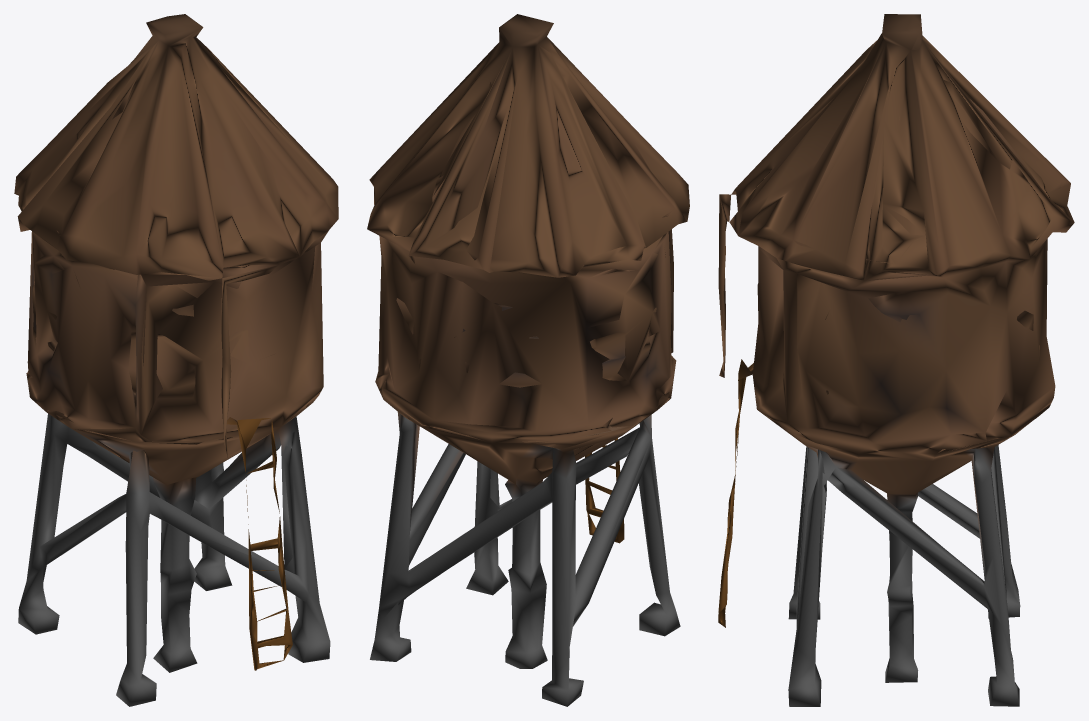
Rendered from gen3d-rooftop-water-tank-lod0.glb.
3 views of the same model, side by side, from view 1: azimuth 30°, elevation 25°; view 2: azimuth 150°, elevation 25°; view 3: azimuth 270°, elevation 25° (orthographic). The views are drawn at different scales.
Visible parts, largest first — view 1: part_0; view 2: part_0; view 3: part_0.
Part boxes in pixels (x1,y1,x2,y2): part_0: [14, 14, 338, 706]; part_0: [367, 14, 689, 706]; part_0: [718, 14, 1074, 706].
Bounding box in the file's own units: 0.4538 × 0.9989 × 0.4919.
